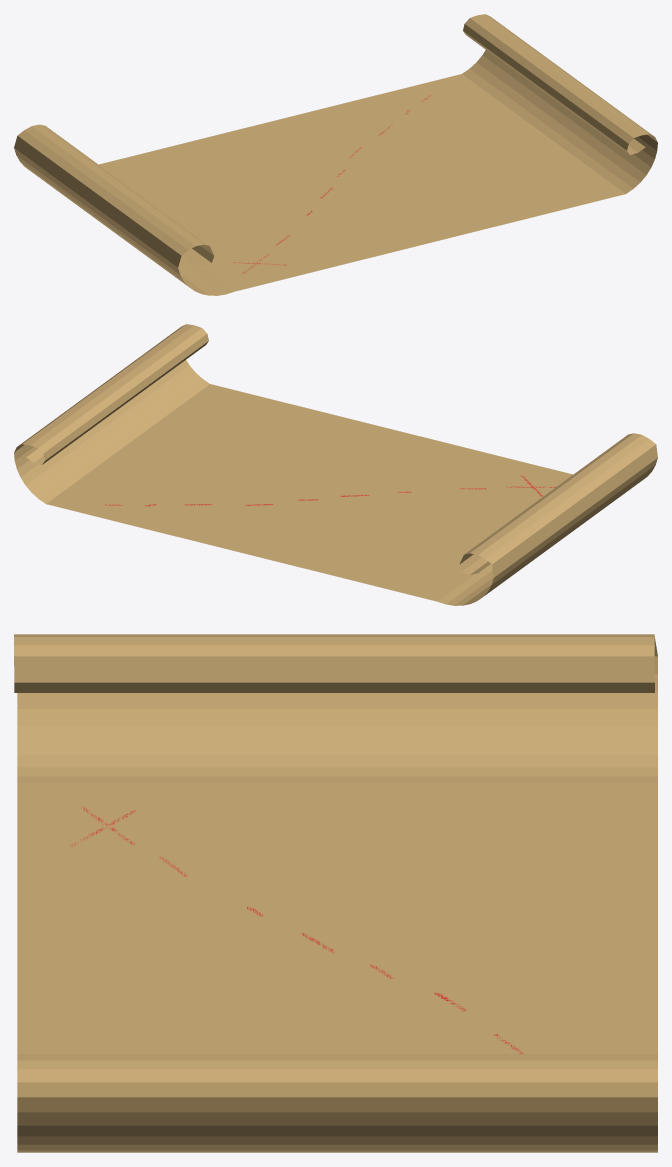
Rendered from Schatzkarte.fbx.
3 views of the same model, one above another, from view 1: azimuth 30°, elevation 25°; view 2: azimuth 150°, elevation 25°; view 3: azimuth 270°, elevation 25° (orthographic). The views are drawn at different scales.
Parts seen in each view (by area): view 1: Schatzkarte; view 2: Schatzkarte; view 3: Schatzkarte.
Boxes of the visible parts, left/top/right/bottom form: Schatzkarte: left=14, top=14, right=657, bottom=295; Schatzkarte: left=14, top=324, right=657, bottom=605; Schatzkarte: left=14, top=634, right=657, bottom=1152.
Bounding box in the file's own units: 338 × 38.72 × 201.
2 materials, 1 textured.
